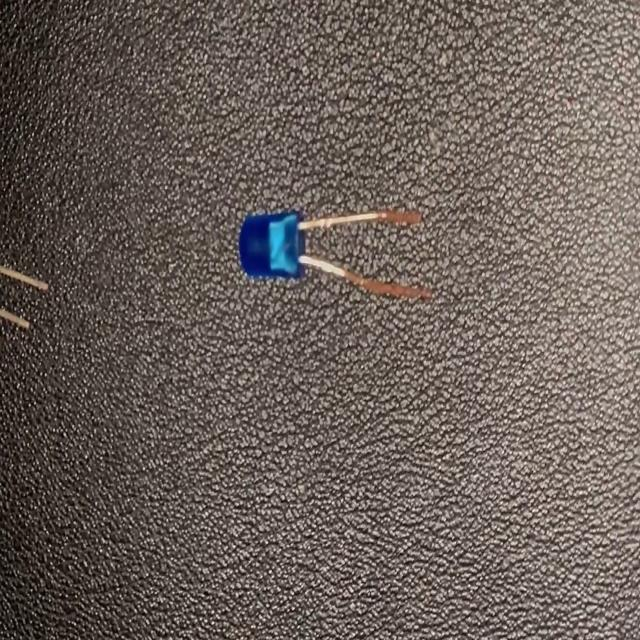LED: (238, 204, 436, 304)
rust: (343, 264, 433, 301), (379, 206, 427, 230)
